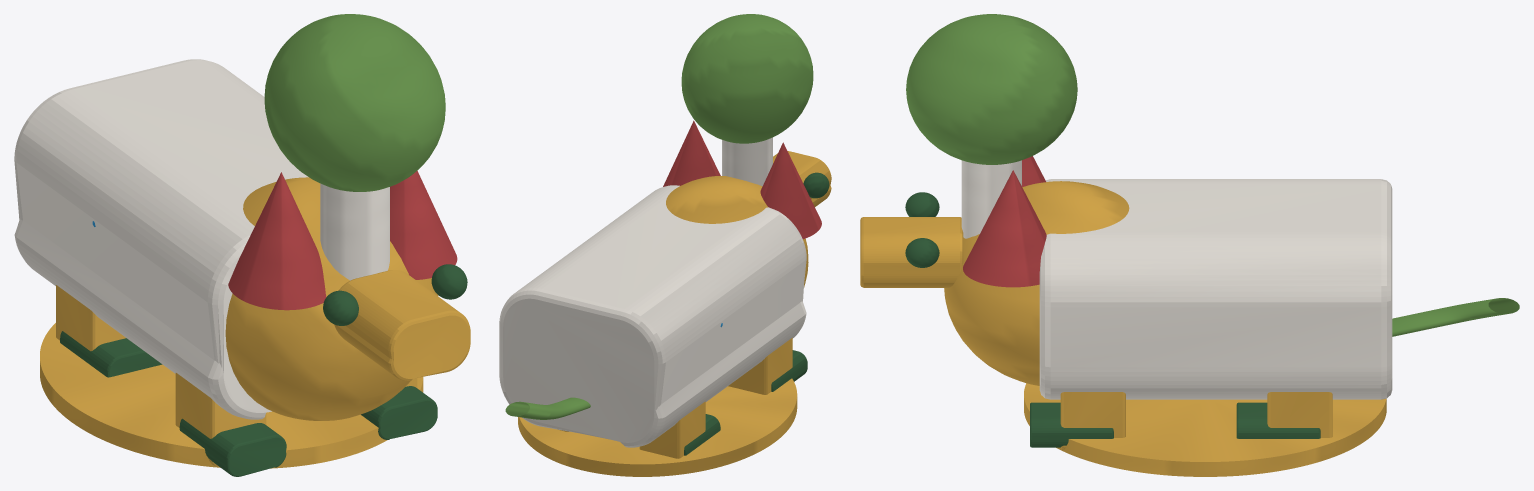
File: 0855_有毒生物图鉴_非洲黄冠鼠.glb
3 views of the same model, side by side, from view 1: azimuth 30°, elevation 25°; view 2: azimuth 150°, elevation 25°; view 3: azimuth 270°, elevation 25° (orthographic). The views are drawn at different scales.
Parts seen in each view (by area): view 1: card_0855; view 2: card_0855; view 3: card_0855.
Boxes of the visible parts, x1,y1,x2,y2 form: card_0855: (14, 14, 470, 476); card_0855: (499, 14, 831, 476); card_0855: (860, 14, 1519, 476).
Size of the model in its own units: 0.7419 by 1 by 1.53.
